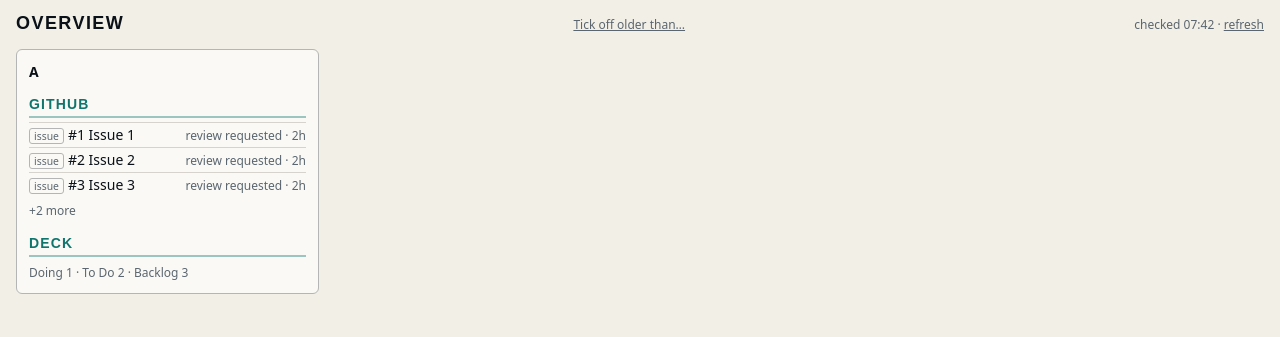
it: OverviewView › lists three notifications, then "+N more" expands in place
What coordinates should you click on to do the following:
click the button with test id "overview-more-a"
I would click on:
 (52, 210)
Its box is top-left (29, 201), bottom-right (76, 219).
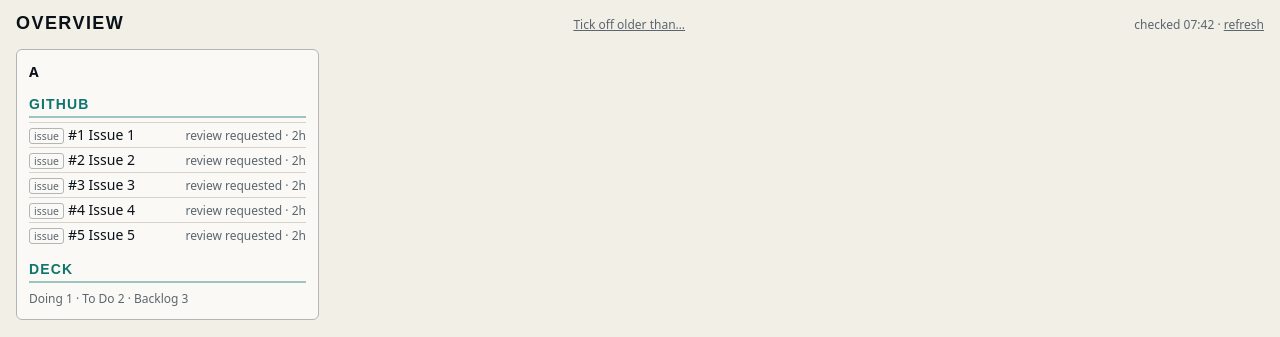
Check: the button with test id "overview-notification-5" is shown, box top-left (29, 223), bottom-right (306, 247)
Check: the button with test id "overview-more-a" is gone
